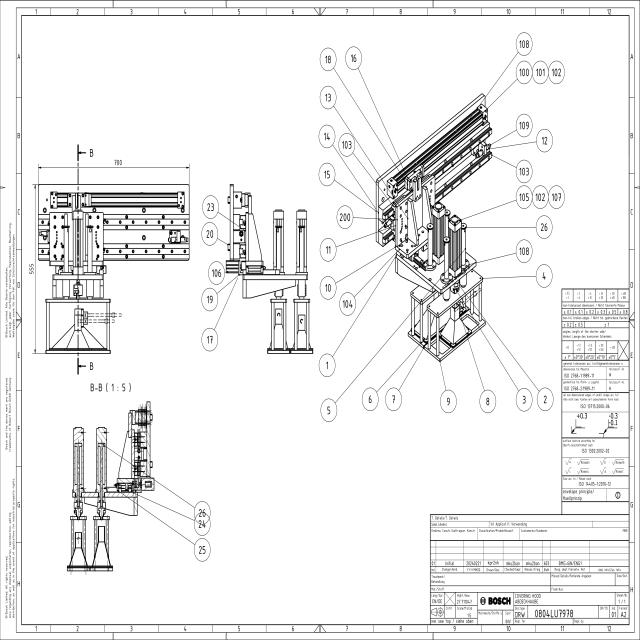dimension: (113, 158, 123, 166), (29, 262, 34, 276)
